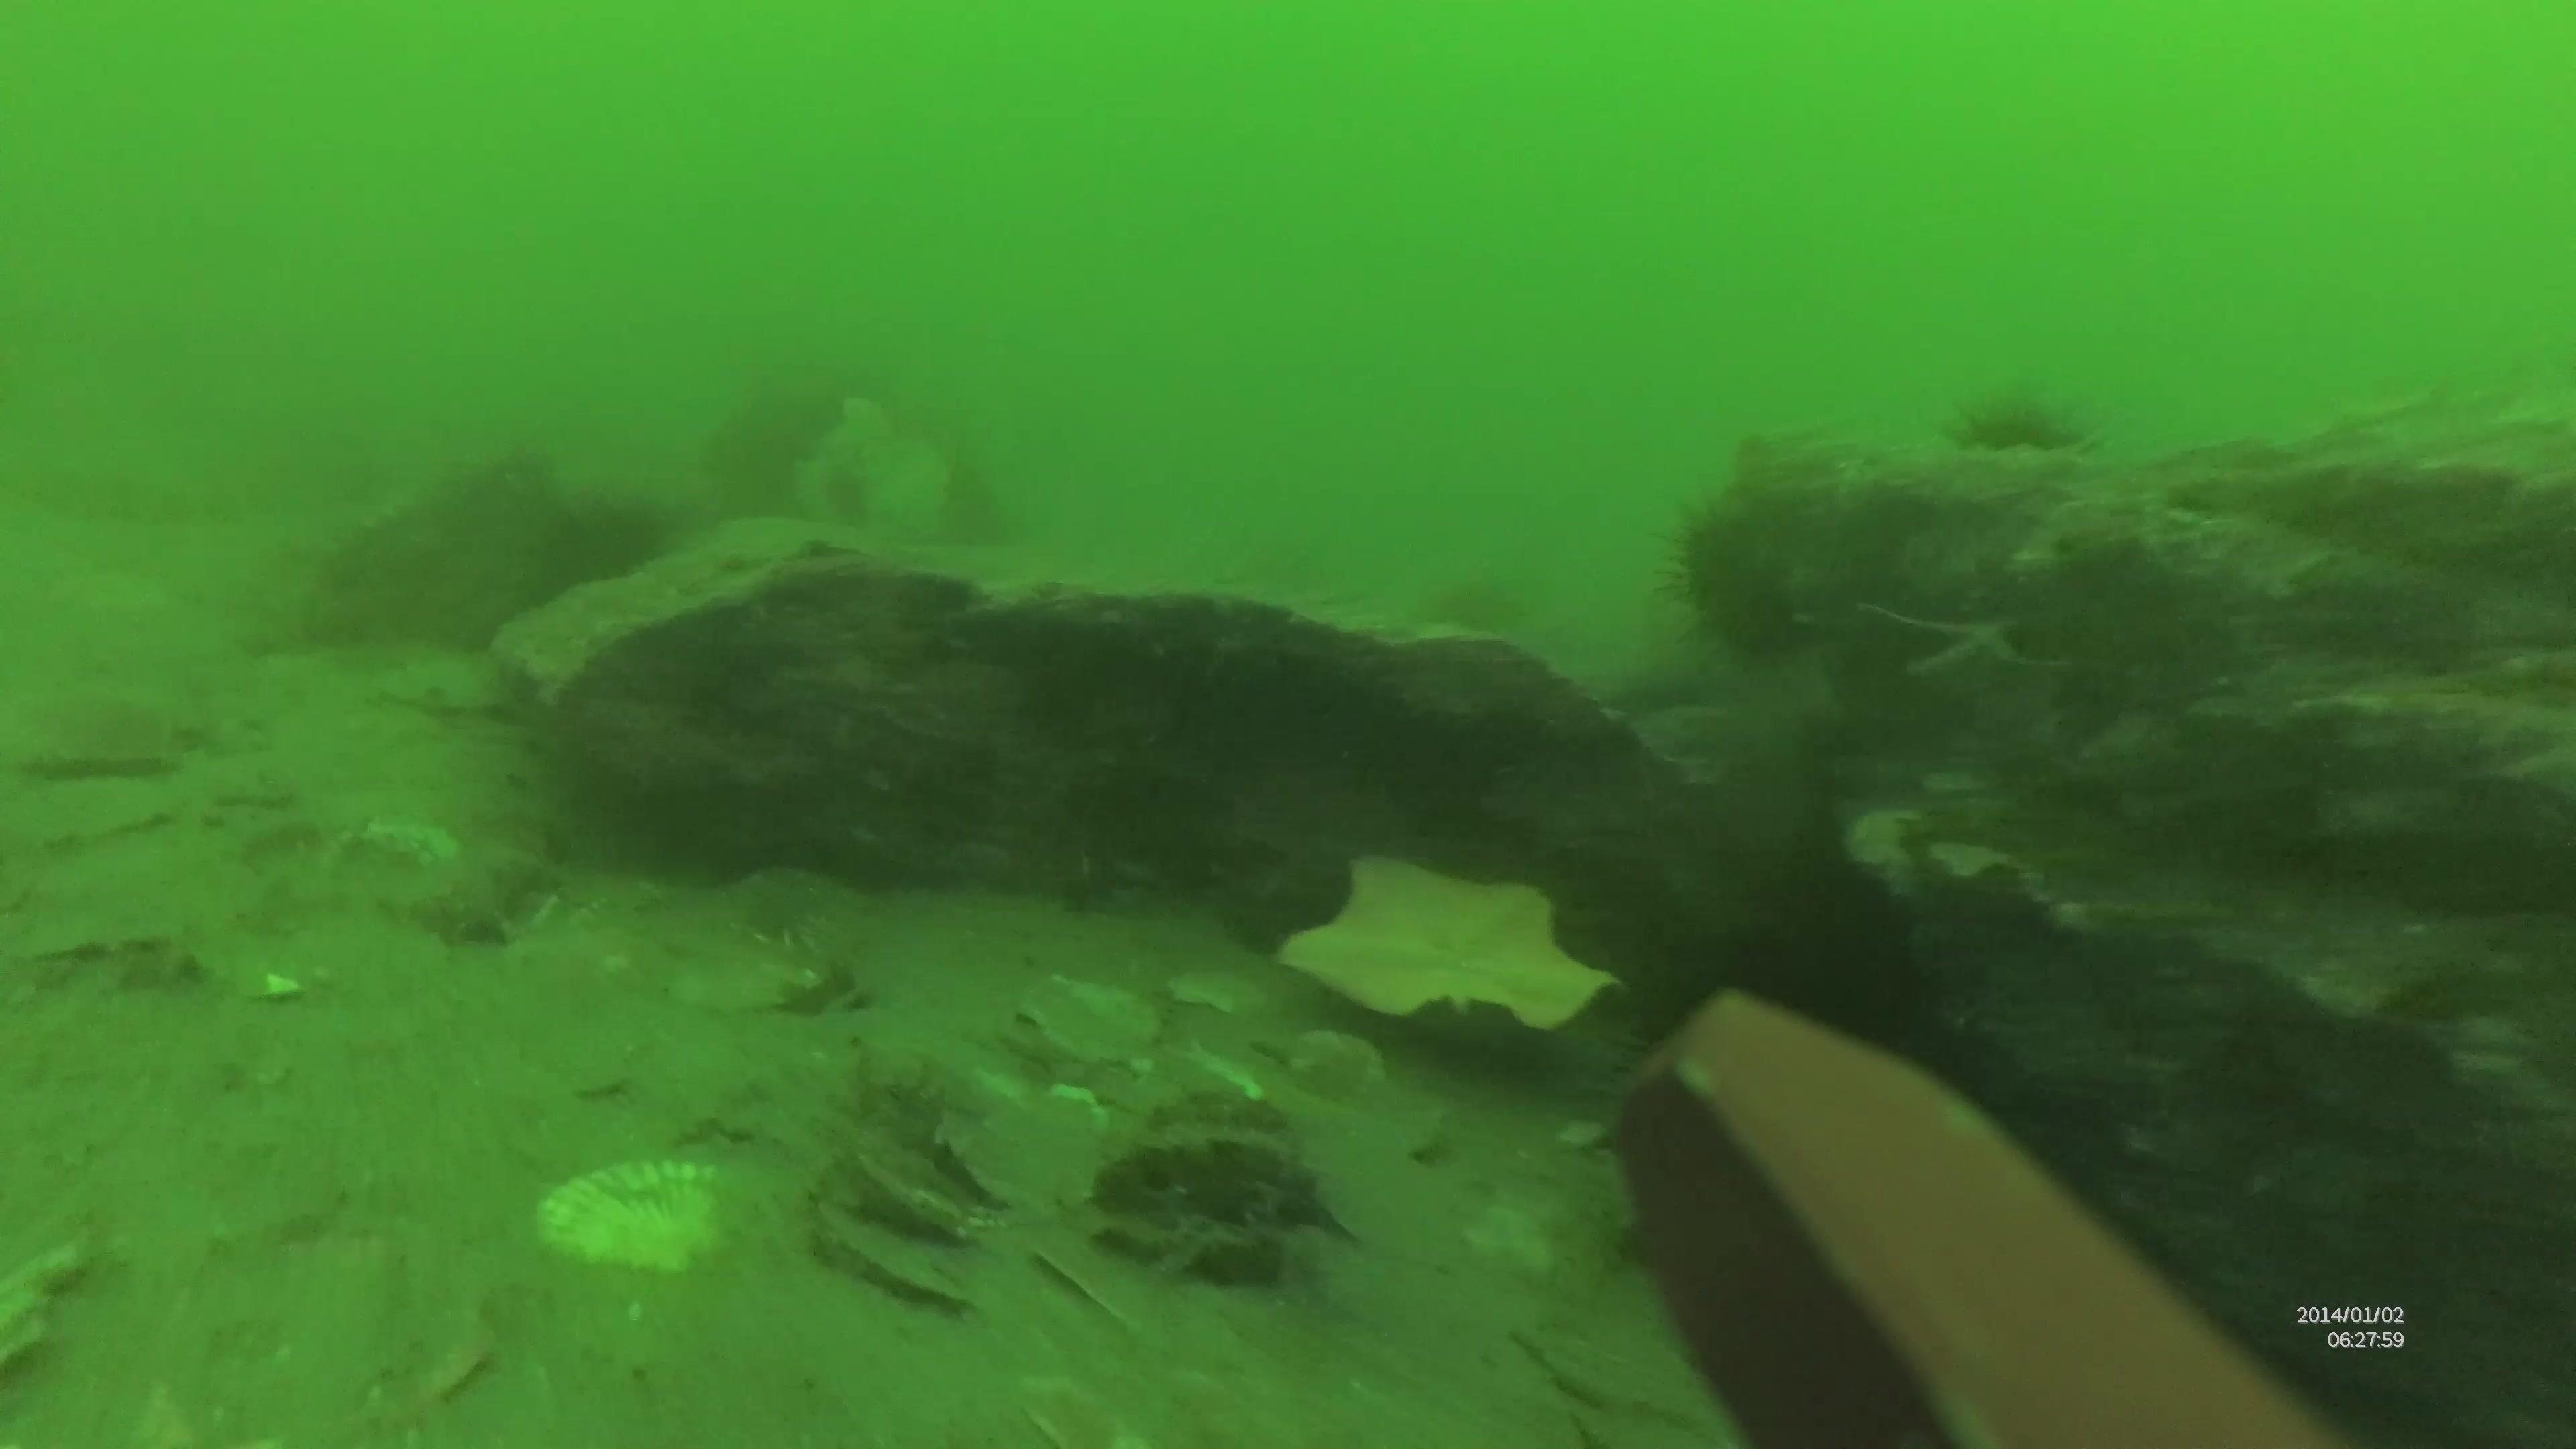echinus: (1651, 485, 1836, 651), (1960, 396, 2100, 467)
holothurian: (1097, 1111, 1353, 1244), (416, 794, 561, 948)
scallop: (533, 1145, 775, 1283), (1010, 970, 1169, 1063)
starfish: (1277, 837, 1610, 1072)
